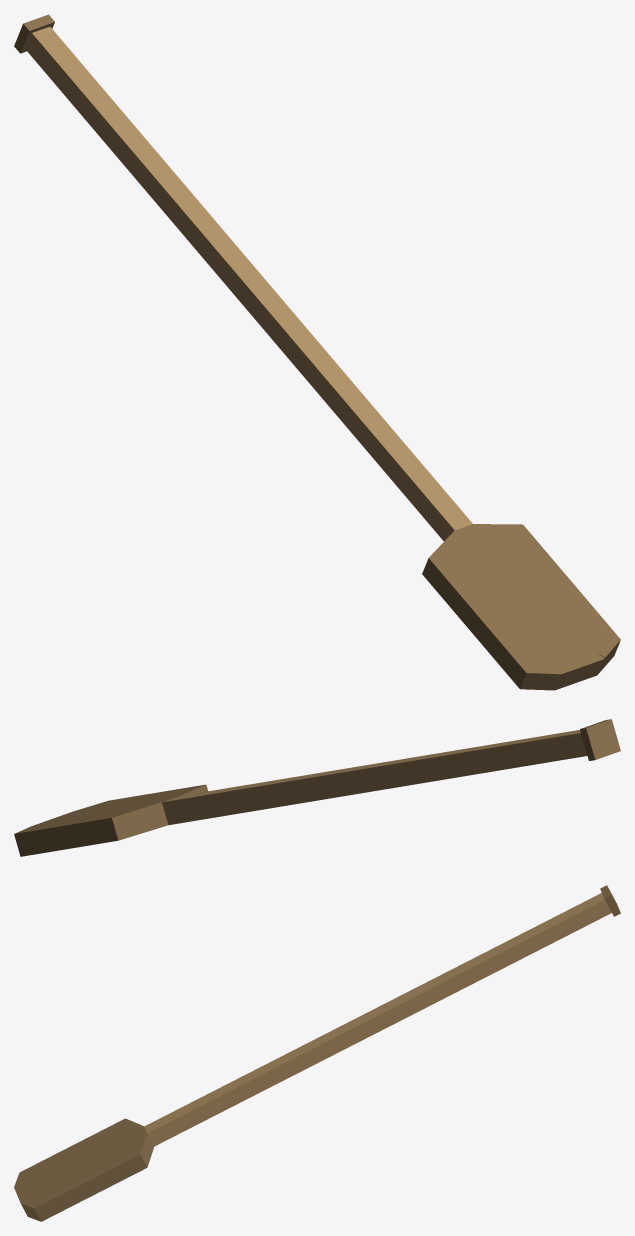
Rendered from Kurek_Kirik.fbx.
3 views of the same model, one above another, from view 1: azimuth 30°, elevation 25°; view 2: azimuth 210°, elevation 25°; view 3: azimuth 270°, elevation 25° (orthographic). The views are drawn at different scales.
Visible parts, largest first — view 1: Kurek_cell.001, Kurek_cell.002, Kurek_cell; view 2: Kurek_cell.001, Kurek_cell, Kurek_cell.002; view 3: Kurek_cell.001, Kurek_cell, Kurek_cell.002.
Part boxes in pixels (x1,y1,x2,y2): Kurek_cell.001: [237, 275, 620, 673]; Kurek_cell.002: [422, 538, 604, 690]; Kurek_cell: [14, 14, 260, 297]; Kurek_cell.001: [14, 761, 389, 856]; Kurek_cell: [373, 719, 620, 789]; Kurek_cell.002: [31, 784, 207, 826]; Kurek_cell.001: [22, 1010, 383, 1221]; Kurek_cell: [373, 885, 620, 1029]; Kurek_cell.002: [14, 1118, 138, 1216].
Bounding box in the file's own units: 18.45 × 35.59 × 71.03.
